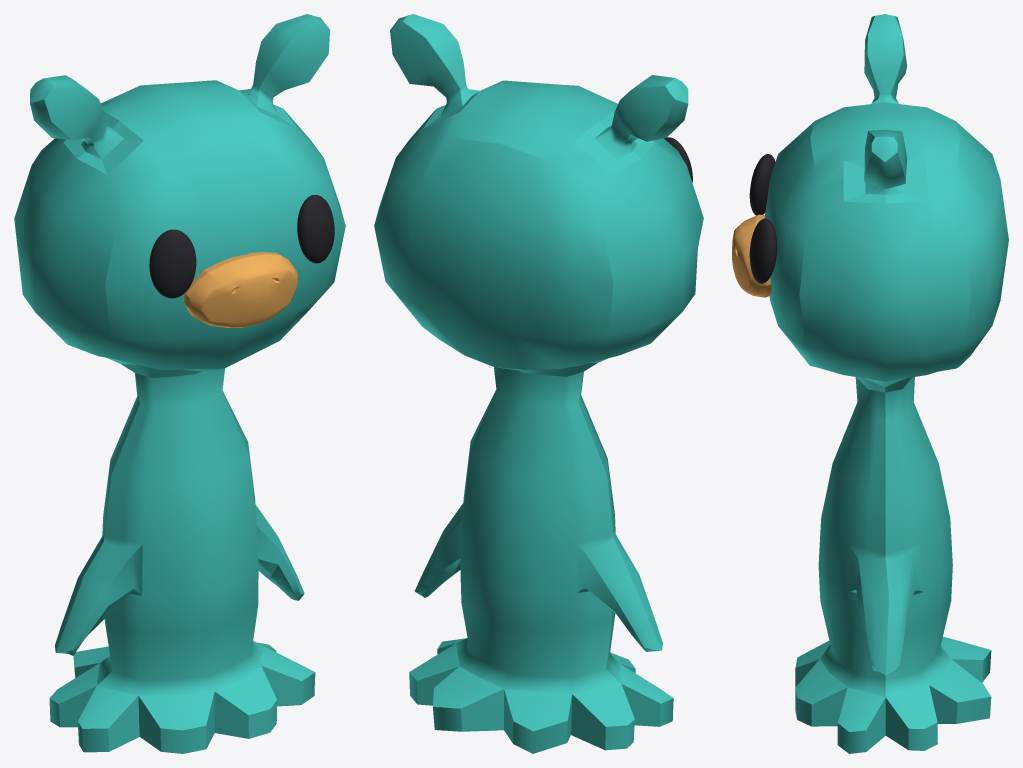
The model's file is kiki.glb.
3 renders of one model, left to right at view 1: azimuth 30°, elevation 25°; view 2: azimuth 150°, elevation 25°; view 3: azimuth 270°, elevation 25°, orthographic. The views are drawn at different scales.
Visible parts, largest first — view 1: polySurface40; view 2: polySurface40; view 3: polySurface40.
Part boxes in pixels (left/top/right/bottom): polySurface40: left=14, top=14, right=345, bottom=753; polySurface40: left=374, top=14, right=703, bottom=753; polySurface40: left=732, top=14, right=1008, bottom=753.
Size of the model in its own units: 0.0262 by 0.0553 by 0.0222.
